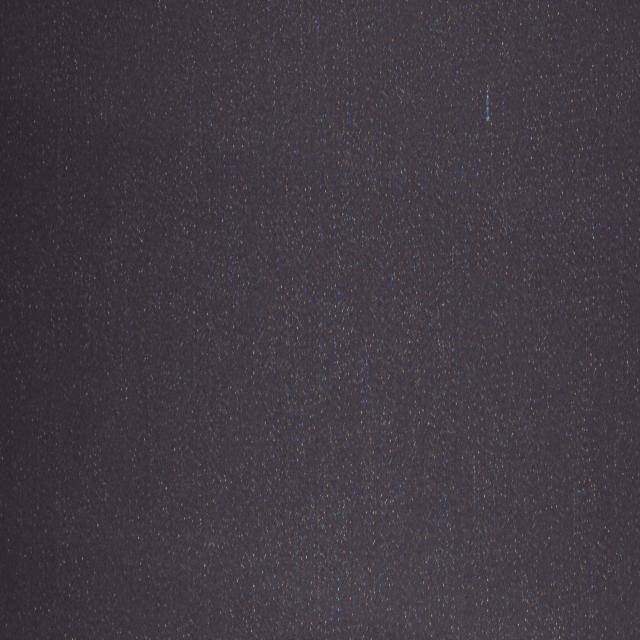Knot: (484, 85, 493, 123)
